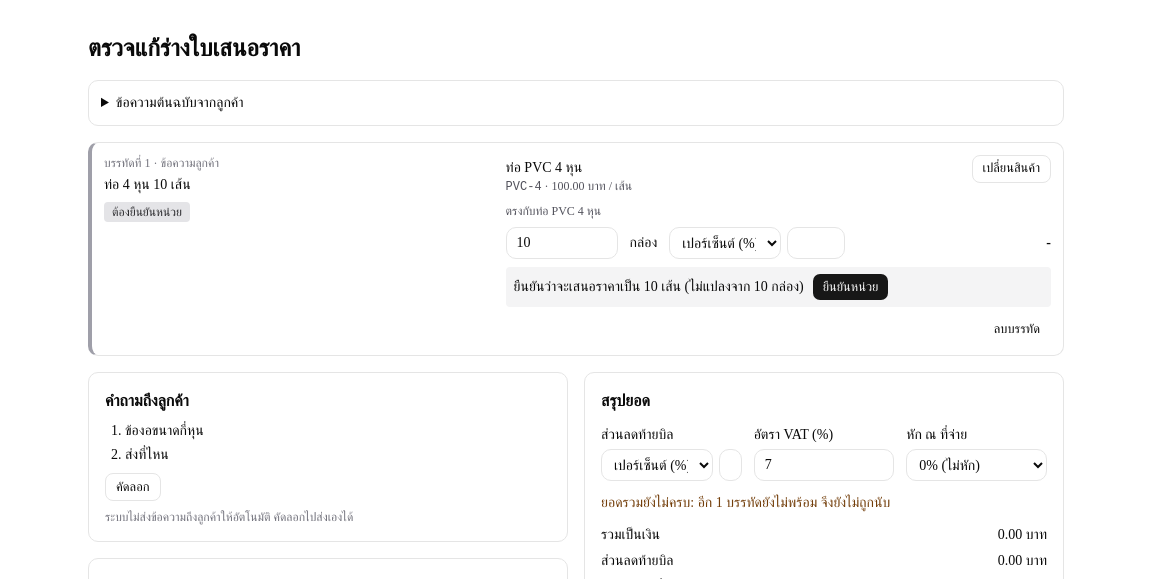
it: approval gate › asks the user to confirm a unit mismatch
The width and height of the screenshot is (1152, 579).
Expected: the text "ต้องยืนยันหน่วย" is shown, top-left (104, 202), bottom-right (190, 222)
Expected: the text "ยืนยันว่าจะเสนอราคาเป็น 10 เส้น (ไม่แปลงจาก 10 กล่อง)" is shown, top-left (514, 277), bottom-right (804, 297)
Click the button "ยืนยันหน่วย". click: {"x": 851, "y": 287}
box: top-left (812, 273), bottom-right (889, 301)
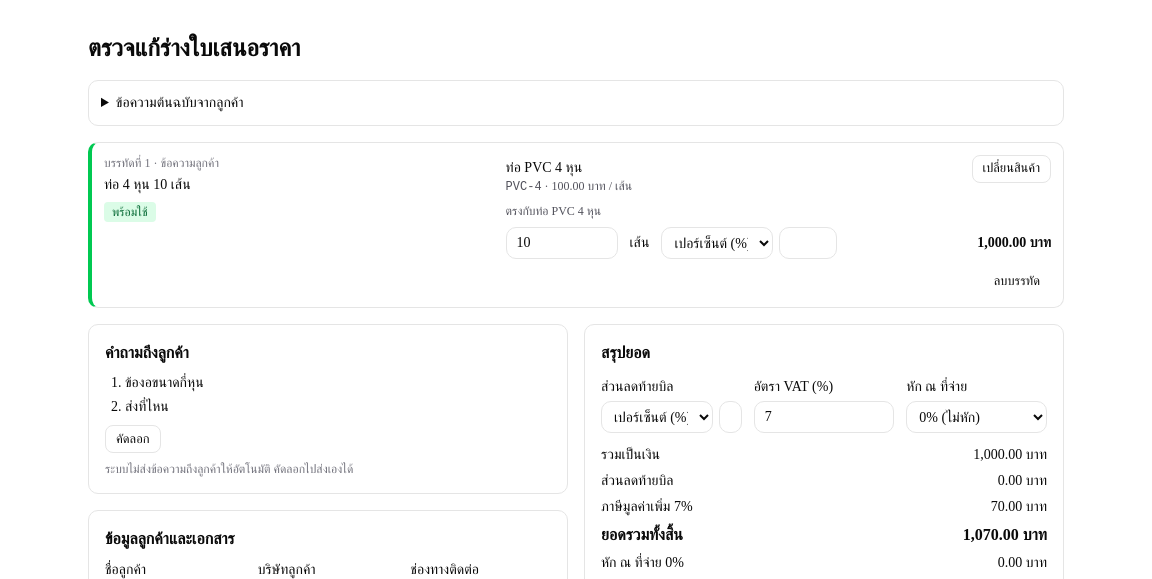
Now the text with test id "unit-label" reads "เส้น", box top-left (630, 235), bottom-right (649, 250)
Now the 1st text "1,000.00 บาท" is shown, box top-left (977, 235), bottom-right (1051, 250)
